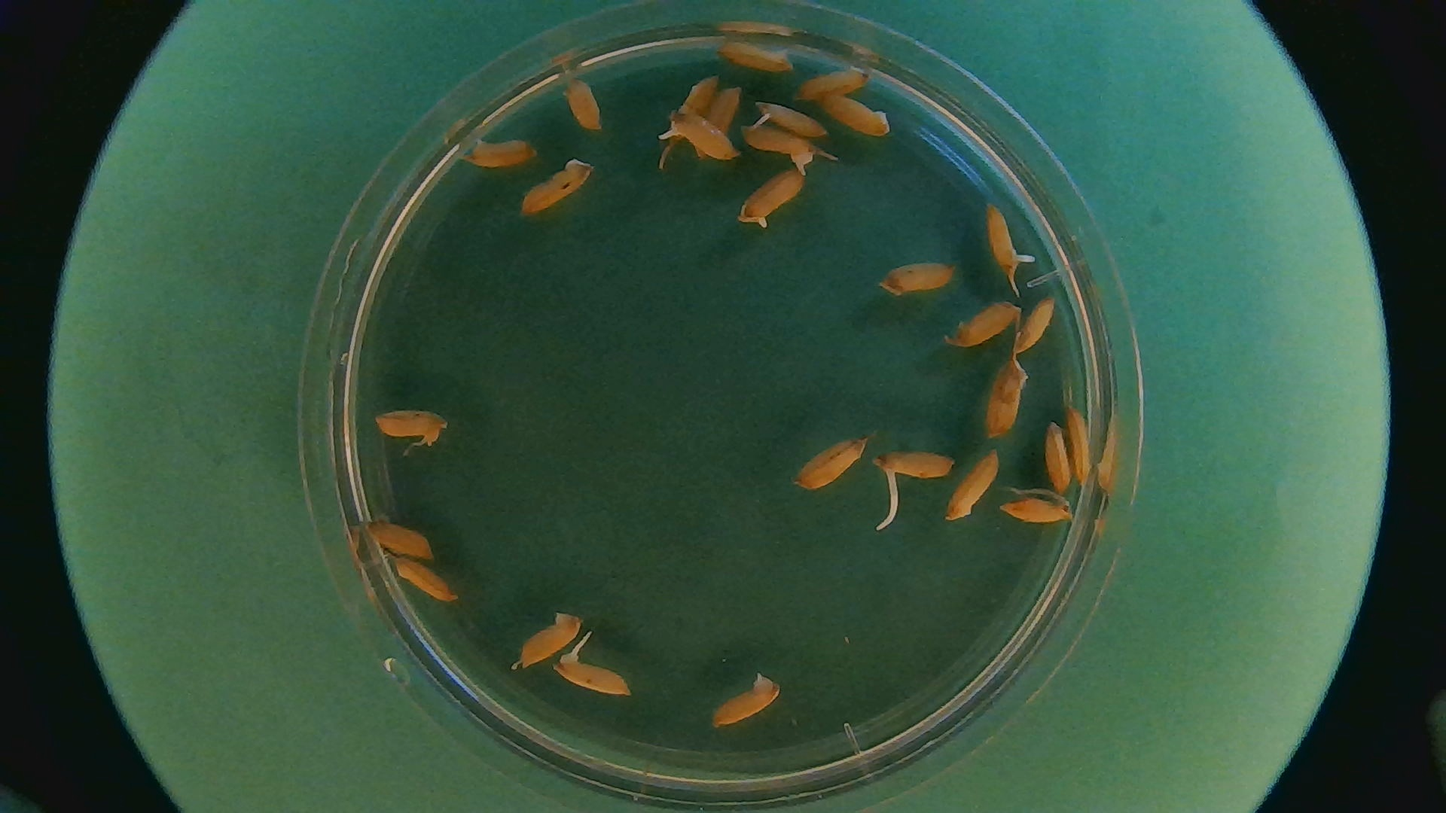no: (655, 69, 720, 160), (732, 168, 806, 233), (942, 443, 1002, 521), (706, 671, 782, 732), (939, 297, 1023, 352), (507, 608, 582, 668), (517, 157, 593, 215), (789, 437, 866, 493), (691, 86, 743, 160), (984, 355, 1028, 442), (712, 34, 795, 80), (359, 516, 436, 565), (365, 403, 449, 447), (817, 90, 893, 136), (787, 65, 872, 103), (877, 256, 959, 295), (450, 136, 544, 170), (386, 560, 456, 605), (997, 489, 1075, 526), (560, 72, 603, 136), (1062, 403, 1094, 489), (1013, 299, 1058, 355), (1042, 417, 1075, 493)
yes: (868, 446, 954, 535), (977, 199, 1036, 291), (553, 631, 631, 699), (736, 124, 835, 173), (667, 107, 740, 168), (746, 100, 829, 136)
